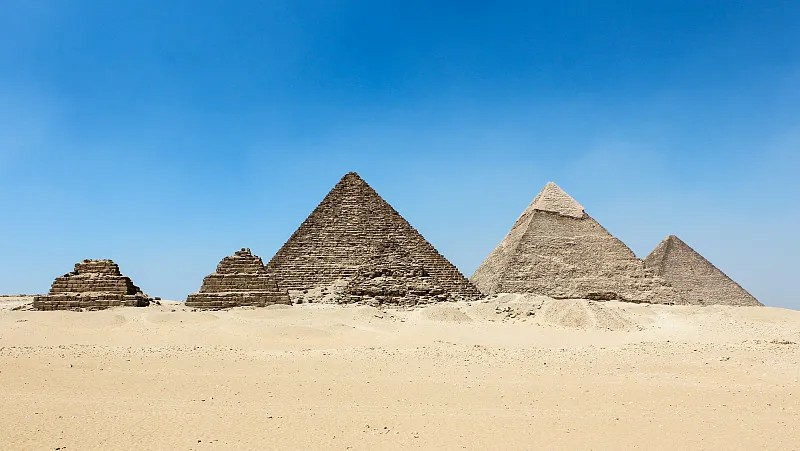Pyramid: (268, 172, 488, 299), (472, 182, 691, 306), (642, 234, 765, 306), (339, 241, 459, 303), (185, 246, 293, 307), (36, 258, 150, 308)
